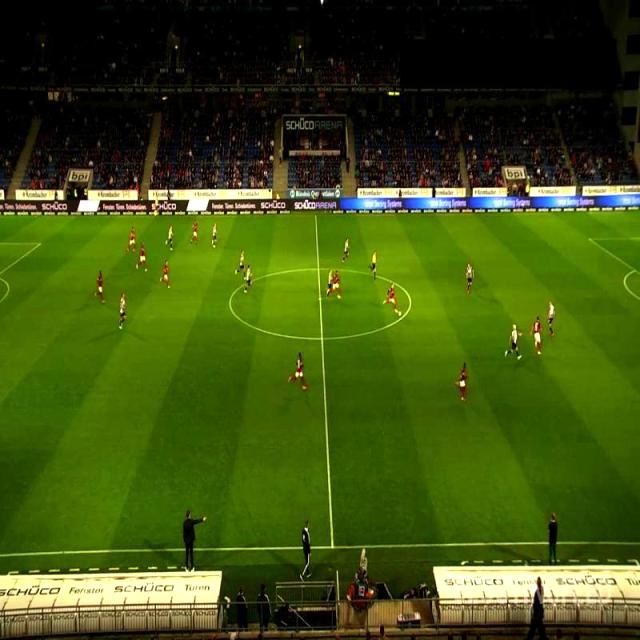bigarea_top_inner: (583, 233, 596, 245), (34, 238, 46, 249)
halfcircle_bottom: (316, 331, 328, 345)
halfcircle_top: (312, 262, 326, 275)
midline_bottom_intersection: (326, 538, 340, 553)
midline_top_intersection: (310, 210, 321, 220)
top_arc_area_intersection: (632, 268, 640, 274)
